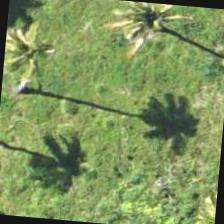Kelapa_Sawit: (94, 0, 191, 77), (0, 12, 73, 108)
